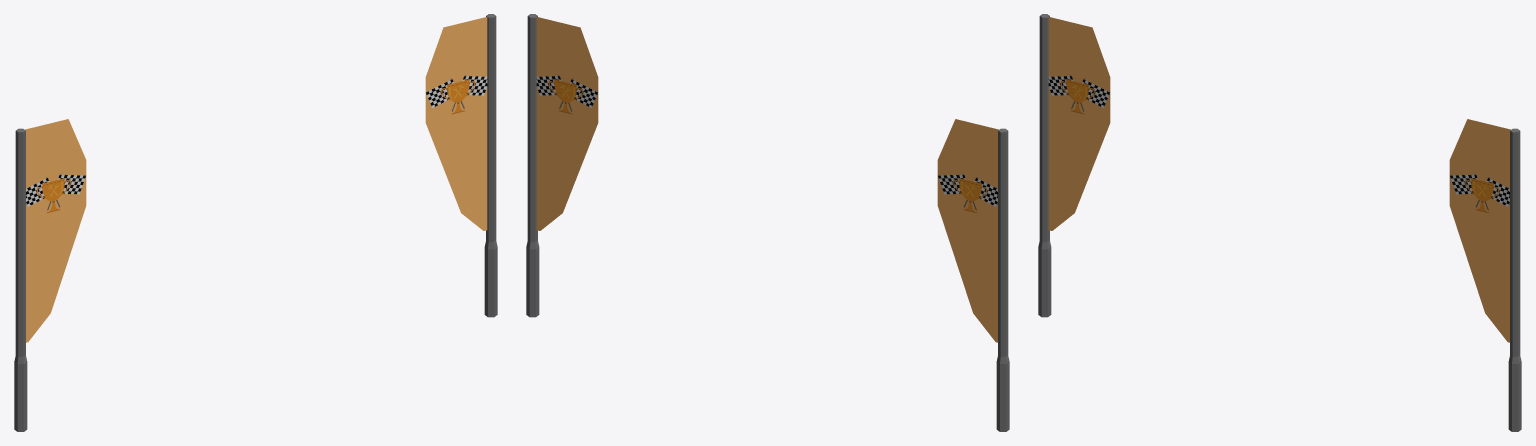
File: checkpoint 1.fbx
The picture shows the model from 3 angles, left to right: view 1: azimuth 30°, elevation 25°; view 2: azimuth 150°, elevation 25°; view 3: azimuth 330°, elevation 25°; orthographic projection.
Parts seen in each view (by area): view 1: Cylinder; view 2: Cylinder; view 3: Cylinder.
Boxes of the visible parts, <box> form: Cylinder: <box>14,14,497,431</box>; Cylinder: <box>526,14,1009,431</box>; Cylinder: <box>1038,14,1521,431</box>.
Bounding box in the file's own units: 20.09 × 11.96 × 0.4697.
